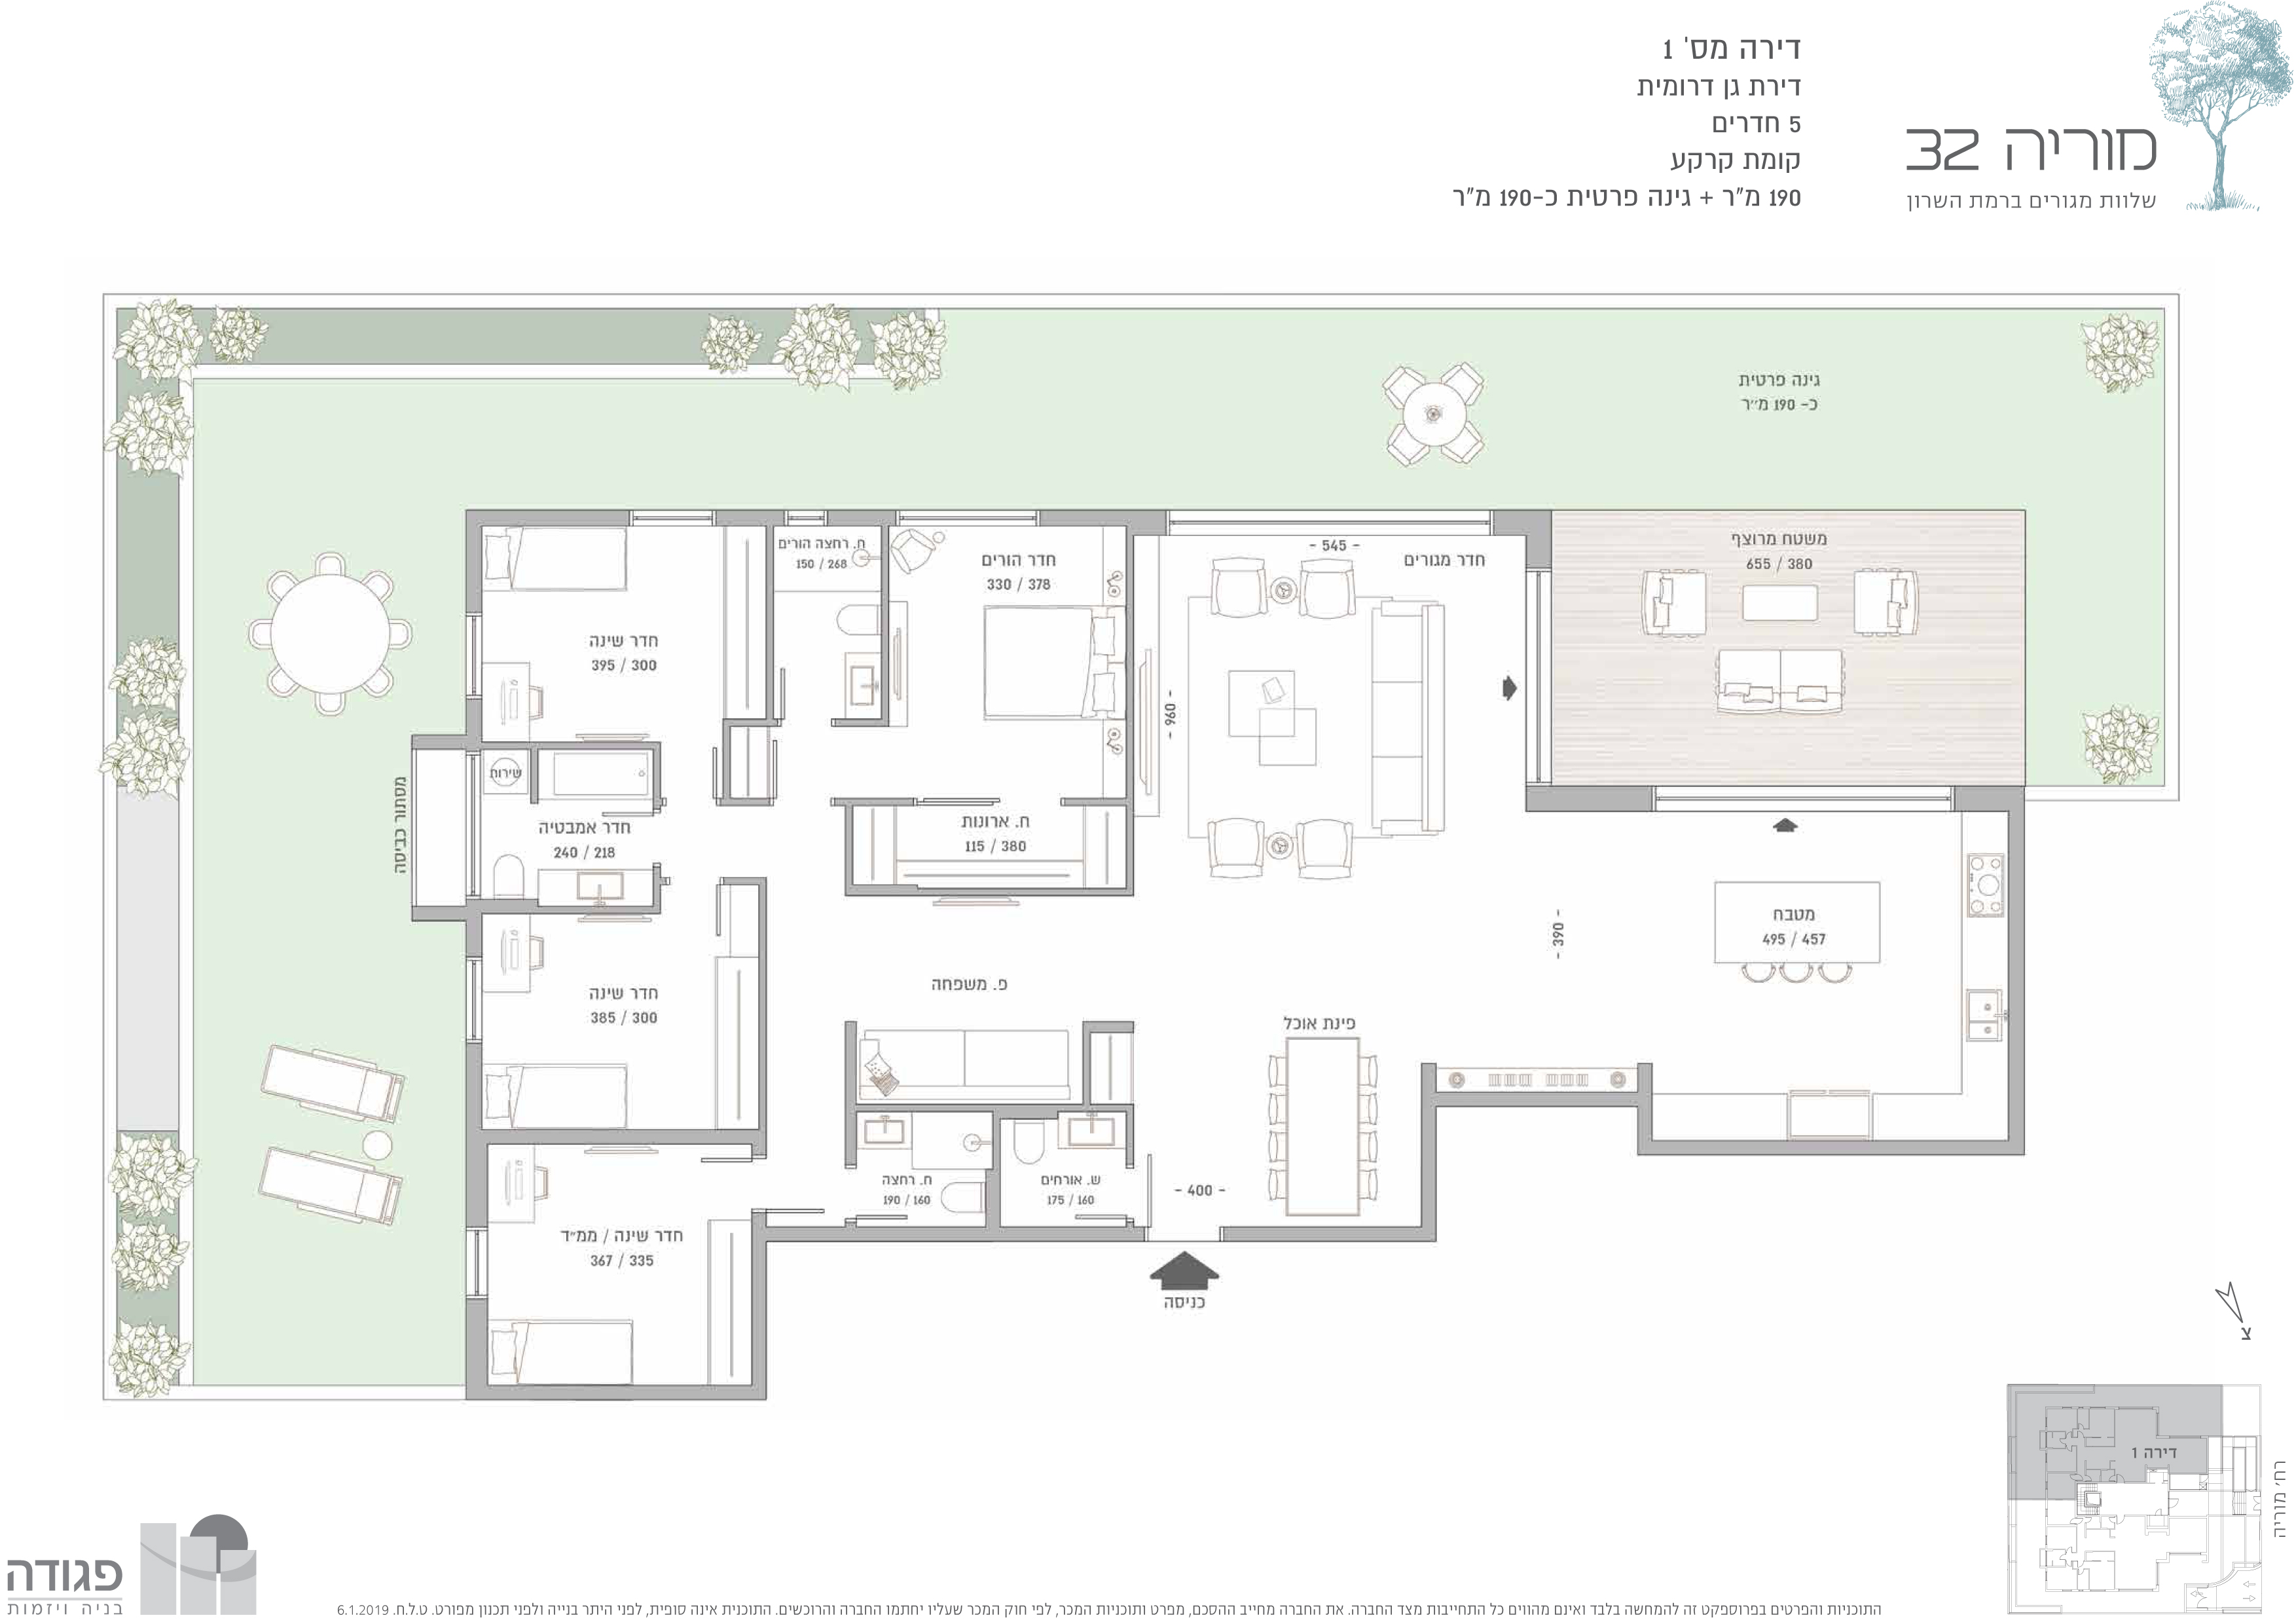wall: (1967, 1046, 2025, 1153), (1637, 1106, 1765, 1153), (1964, 786, 2025, 851), (488, 1128, 745, 1142), (745, 1241, 764, 1404), (1525, 787, 1651, 812), (861, 1229, 1108, 1241), (1497, 510, 1549, 566), (466, 510, 631, 526), (1363, 1206, 1437, 1241), (466, 1297, 488, 1401), (761, 591, 776, 714)
window: (1165, 510, 1493, 538), (1653, 786, 1955, 810), (1527, 569, 1553, 782), (894, 511, 1040, 526), (467, 750, 480, 900), (466, 1227, 488, 1297), (466, 956, 483, 1040), (632, 508, 711, 526), (467, 612, 481, 700), (785, 508, 827, 524)
